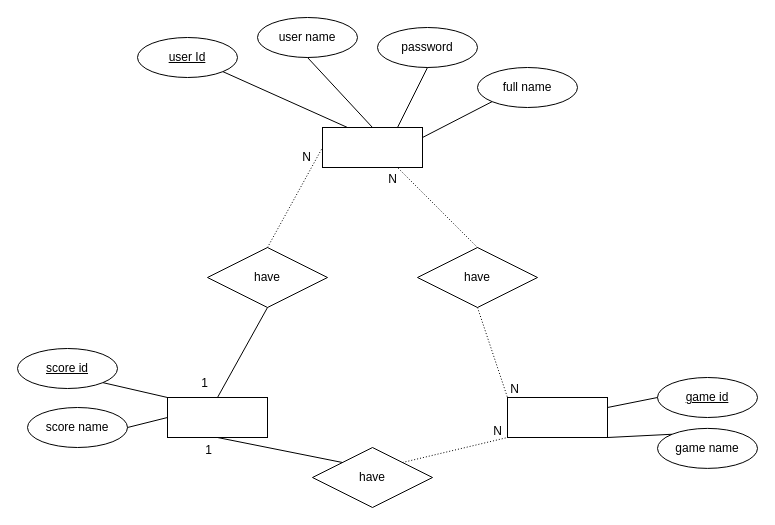
Some shapes in this 775 by 525 pixel diagram are drawn without their labels. Each missing label, with the box of its shape:
game: (506, 396, 608, 438)
score: (166, 396, 268, 438)
user: (322, 126, 422, 168)
